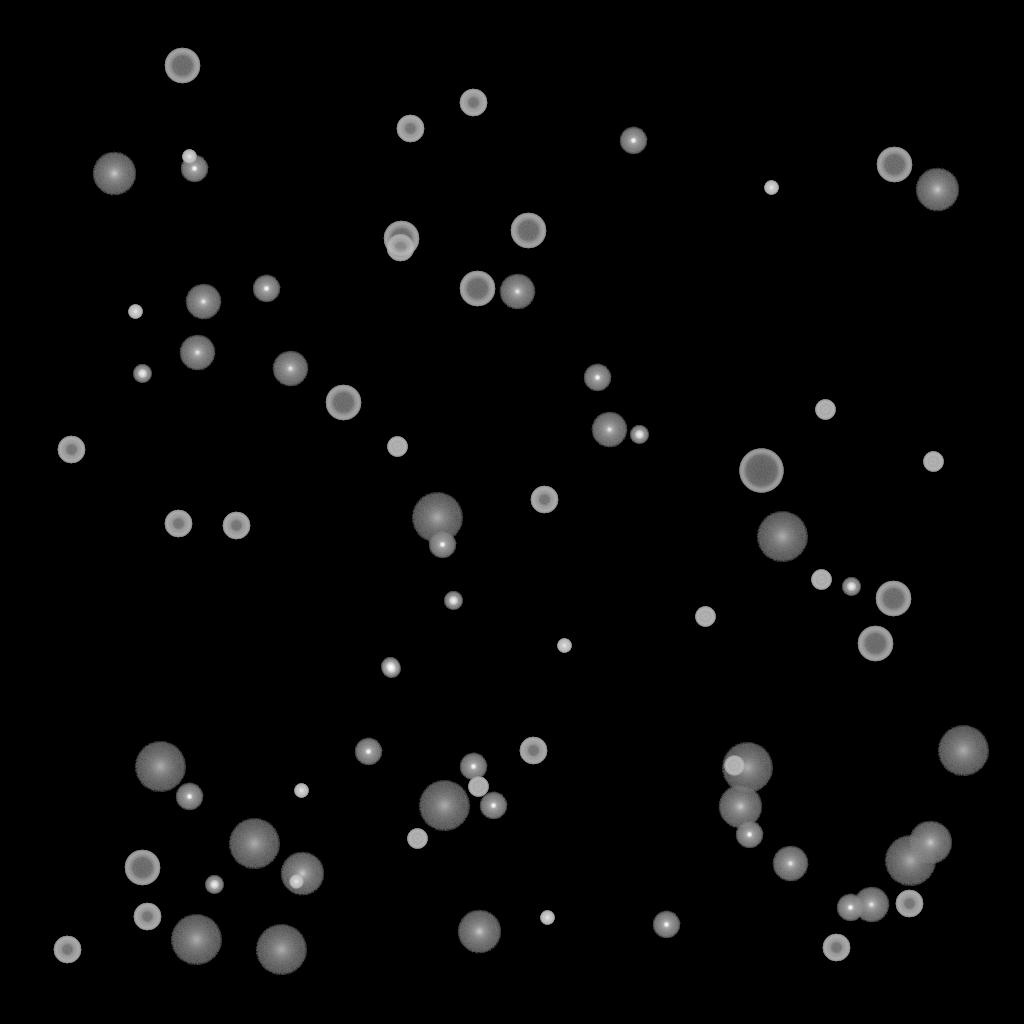depth:-10: (428, 531, 456, 559), (583, 364, 611, 392), (459, 753, 487, 781), (619, 127, 647, 155), (652, 911, 680, 939), (735, 821, 763, 849), (479, 792, 507, 820), (180, 155, 208, 183), (836, 894, 864, 922), (252, 275, 280, 303), (354, 738, 382, 766), (175, 783, 203, 811)
depth:-20: (205, 876, 223, 894), (382, 660, 400, 678), (842, 578, 860, 596), (630, 426, 648, 444), (133, 365, 151, 383), (381, 658, 399, 676), (444, 592, 462, 610)
depth:-30: (764, 181, 778, 195), (182, 150, 196, 164), (128, 305, 142, 319), (289, 875, 303, 889), (557, 639, 571, 653), (294, 784, 308, 798), (540, 911, 554, 925)
depth:-40: (724, 756, 744, 776), (815, 400, 835, 420), (923, 452, 943, 472), (407, 829, 427, 849), (468, 777, 488, 797), (387, 437, 407, 457), (695, 607, 715, 627), (811, 570, 831, 590)
depth:-50: (895, 890, 923, 918), (57, 436, 85, 464), (133, 903, 161, 931), (164, 510, 192, 538), (530, 486, 558, 514), (396, 115, 424, 143), (53, 936, 81, 964), (519, 737, 547, 765), (822, 934, 850, 962), (459, 89, 487, 117), (222, 512, 250, 540), (386, 234, 414, 262)
depth:-60: (857, 626, 893, 662), (325, 385, 361, 421), (164, 48, 200, 84), (383, 221, 419, 257), (459, 271, 495, 307), (124, 850, 160, 886), (876, 147, 912, 183), (875, 581, 911, 617), (510, 213, 546, 249)
depth:-70: (739, 449, 783, 493)
depth:0: (499, 274, 535, 310), (853, 887, 889, 923), (179, 335, 215, 371), (591, 412, 627, 448), (185, 284, 221, 320), (772, 846, 808, 882), (272, 351, 308, 387)
depth:10: (280, 852, 324, 896), (718, 785, 762, 829), (92, 152, 136, 196), (908, 821, 952, 865), (457, 910, 501, 954), (915, 168, 959, 212)
depth:20: (721, 743, 773, 793), (756, 512, 808, 562), (134, 742, 186, 792), (411, 493, 463, 543), (255, 925, 307, 975), (884, 836, 936, 886), (228, 819, 280, 869), (937, 726, 989, 776), (170, 915, 222, 965), (418, 781, 470, 831)
